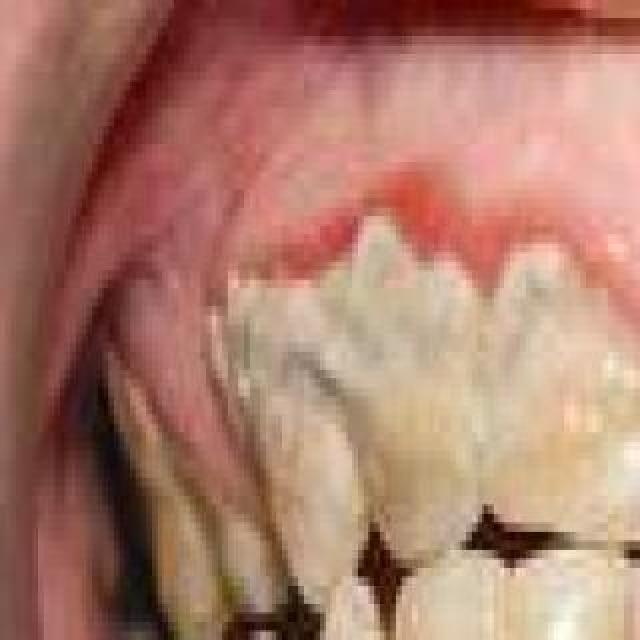calculus: (476, 216, 640, 532), (223, 270, 369, 604), (353, 216, 483, 568), (98, 352, 228, 640), (498, 532, 628, 640), (178, 612, 298, 640), (624, 540, 640, 640), (118, 630, 194, 640)
